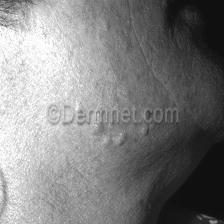Benign Marking or Mole: (81, 0, 143, 94), (88, 122, 166, 164)
